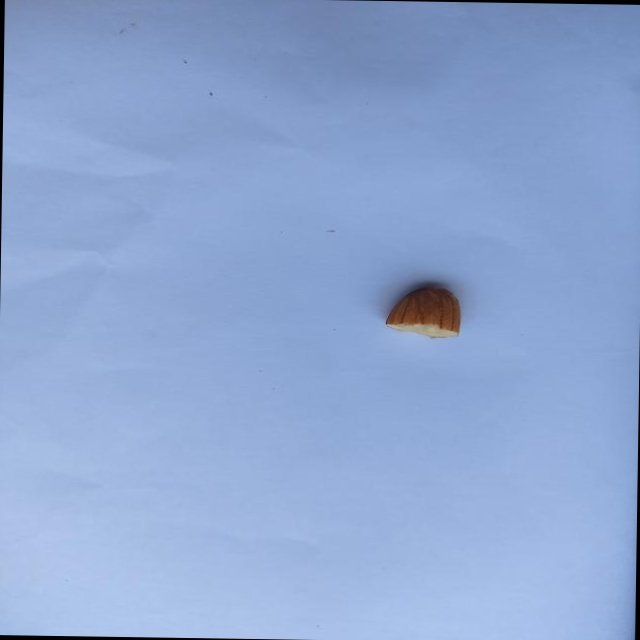grade4: (377, 279, 469, 343)
